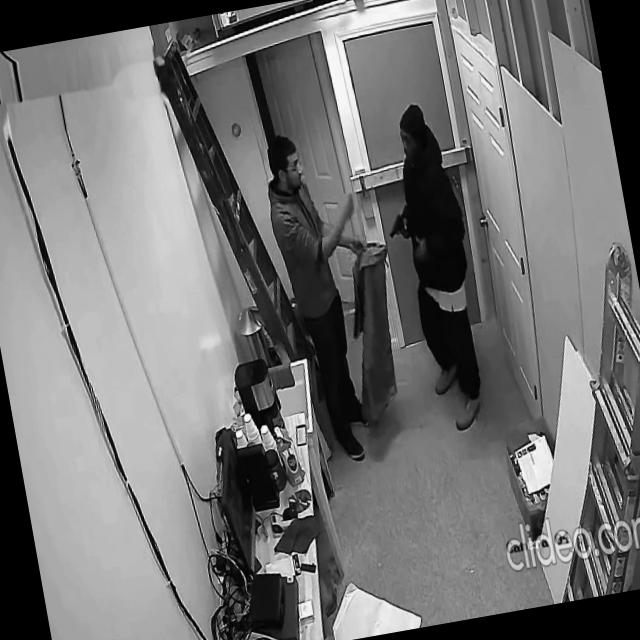gun: (386, 210, 410, 242)
person: (256, 121, 404, 468)
person with a gun: (368, 97, 499, 438)
